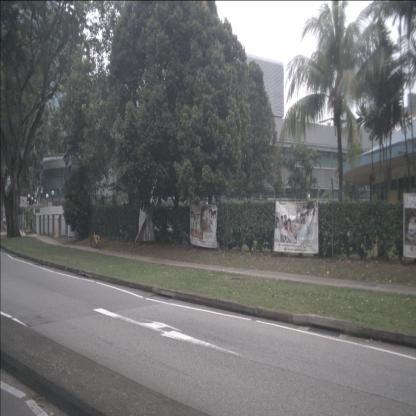vehicle-bicycle: (90, 228, 100, 249)
